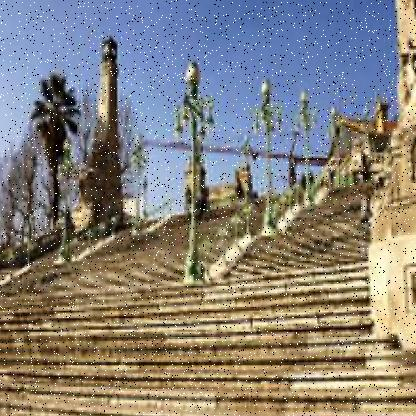stair_up: (12, 277, 376, 416)
